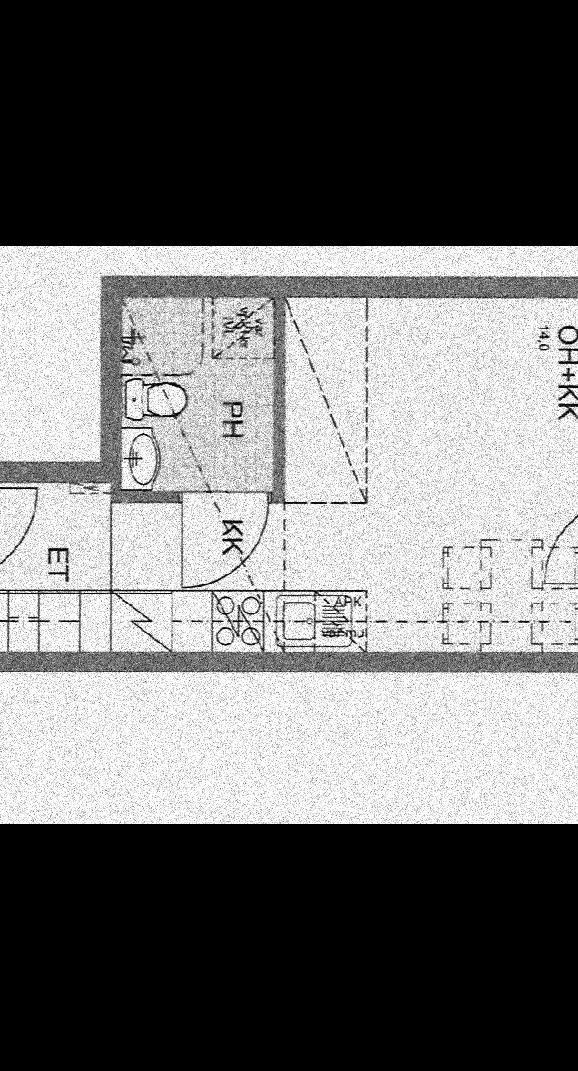door: (168, 486, 268, 588), (534, 493, 578, 600)
zone: (281, 295, 578, 641), (120, 296, 272, 493), (112, 500, 280, 650), (0, 485, 110, 646)
